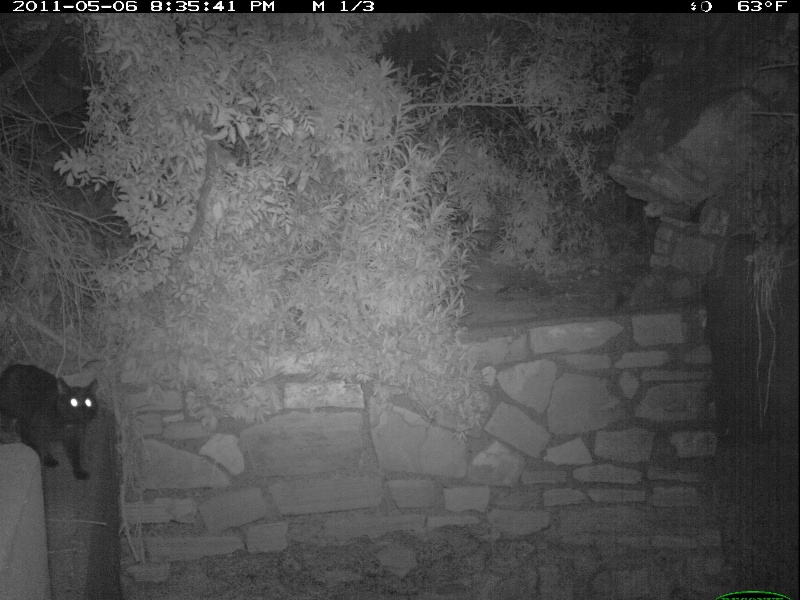cat: (1, 355, 101, 483)
